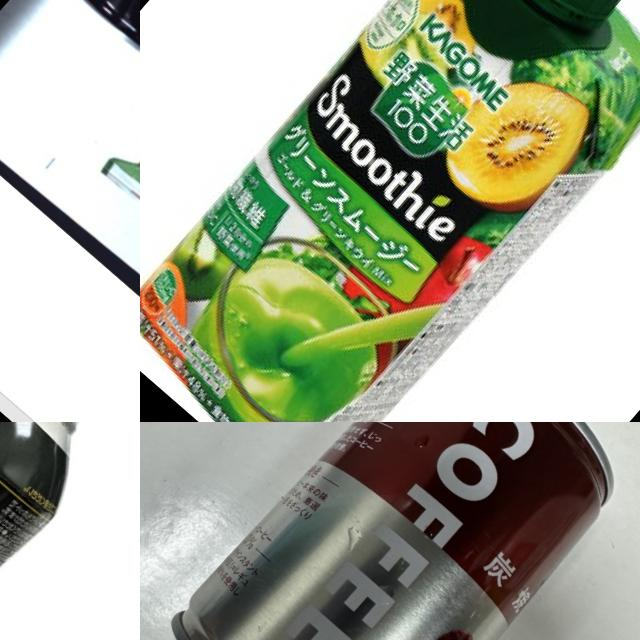Aluminium Foil: (140, 0, 640, 422), (92, 0, 140, 322)
Can: (160, 422, 640, 640), (0, 422, 140, 640)
